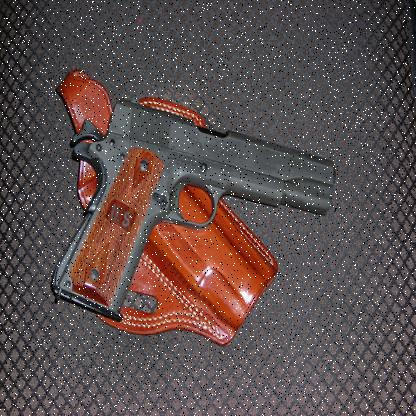pistol: (47, 94, 338, 317)
